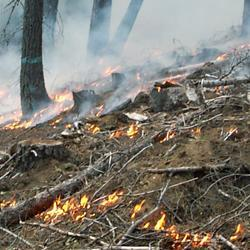fire: (49, 194, 89, 214), (183, 234, 216, 248), (150, 209, 168, 230), (131, 203, 142, 216), (126, 124, 137, 136)
